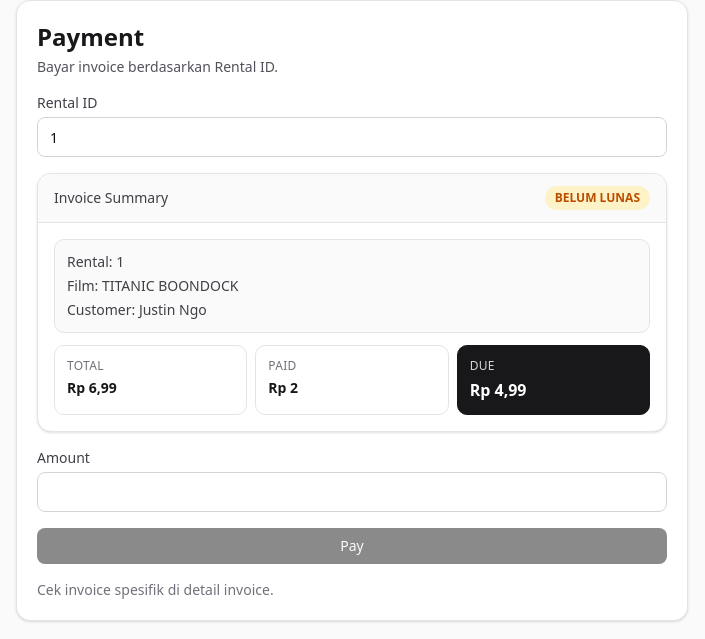
Payments page › enables Pay button when amount is valid and invoice still has due
In the number field labelled "Amount": (352, 492) [37,472,667,512], type "2.5"
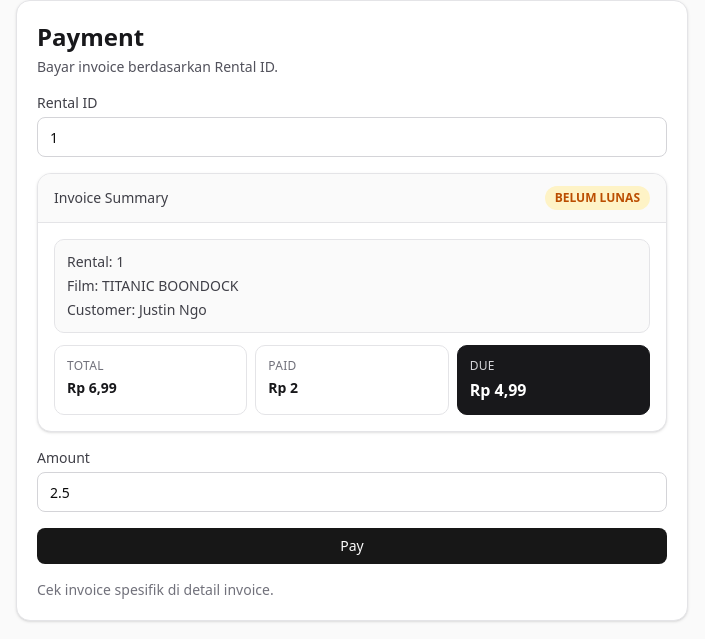
Result: the button "Pay" is enabled at [37,528,667,564]
